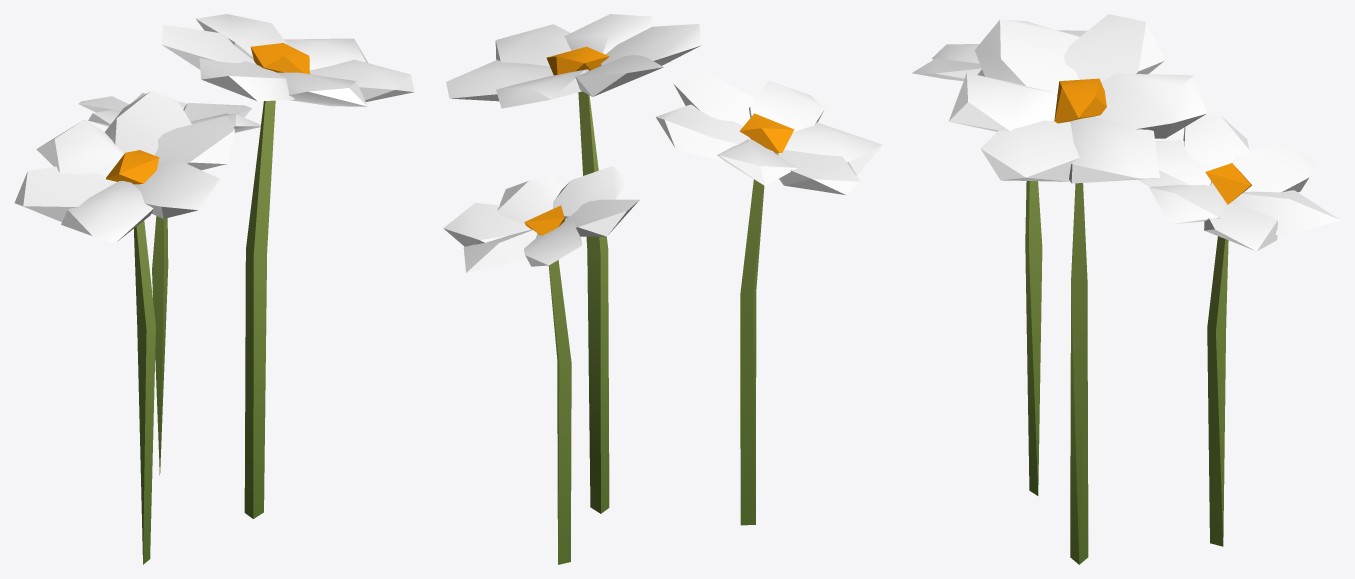
The model's file is Spring_Flower_07.glb.
3 renders of one model, left to right at view 1: azimuth 30°, elevation 25°; view 2: azimuth 150°, elevation 25°; view 3: azimuth 270°, elevation 25°, orthographic. The views are drawn at different scales.
Visible parts, largest first — view 1: Spring_Flower_07_LOD0; view 2: Spring_Flower_07_LOD0; view 3: Spring_Flower_07_LOD0.
Boxes of the visible parts, x1,y1,x2,y2 form: Spring_Flower_07_LOD0: (14,14,414,564); Spring_Flower_07_LOD0: (443,14,882,564); Spring_Flower_07_LOD0: (912,14,1339,564).
Size of what is drawn, in the model's own units: 0.2384 by 0.2893 by 0.2215.
1 material, 1 textured.
